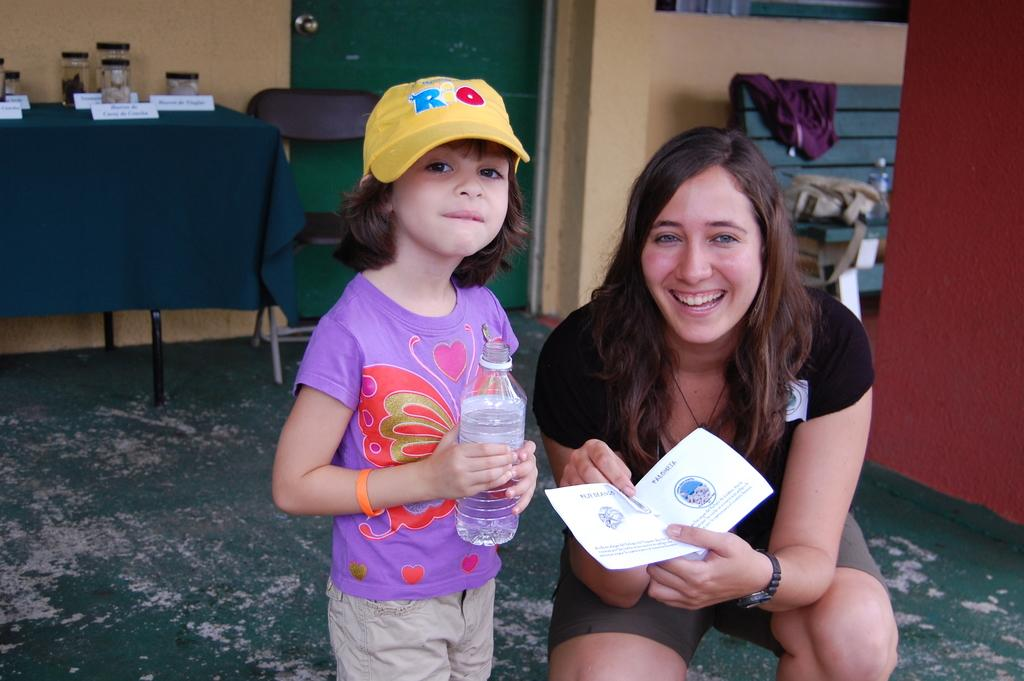Hat: (360, 74, 530, 188)
